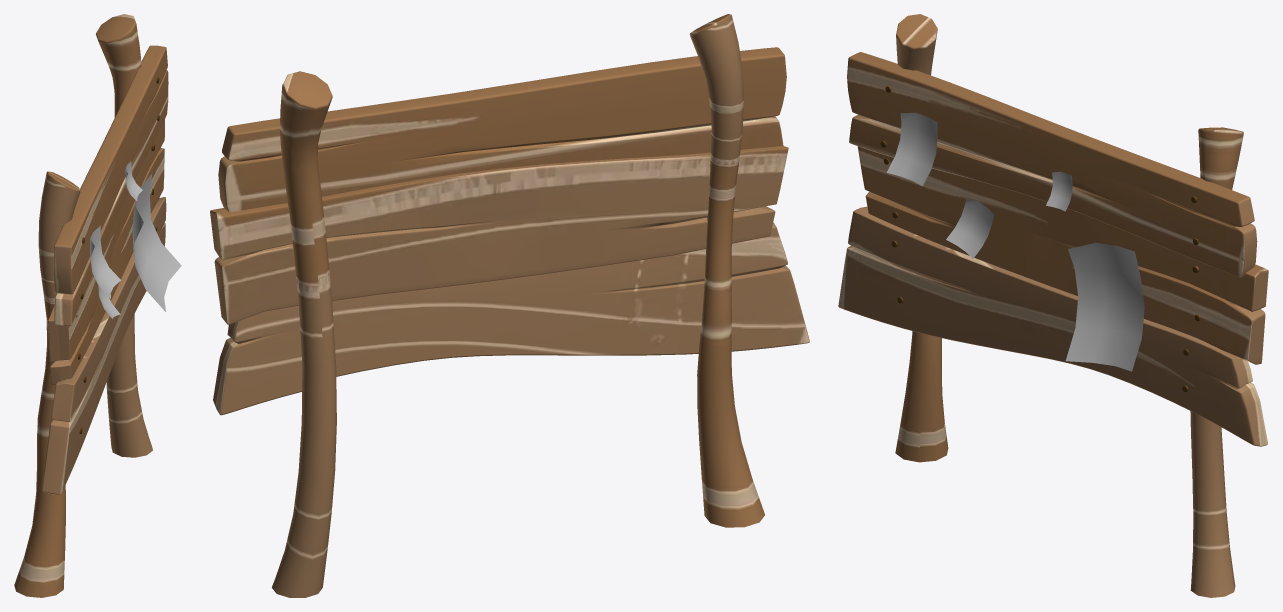
The model's file is board.glb.
The picture shows the model from 3 angles, left to right: view 1: azimuth 30°, elevation 25°; view 2: azimuth 150°, elevation 25°; view 3: azimuth 270°, elevation 25°; orthographic projection. The views are drawn at different scales.
Visible parts, largest first — view 1: board; view 2: board; view 3: board.
Part boxes in pixels (<box>): board: <box>14,14,181,597</box>; board: <box>210,14,809,597</box>; board: <box>838,14,1268,597</box>.
Bounding box in the file's own units: 2.54 × 3.35 × 2.84.
Materials: 4 (3 with a texture image).
